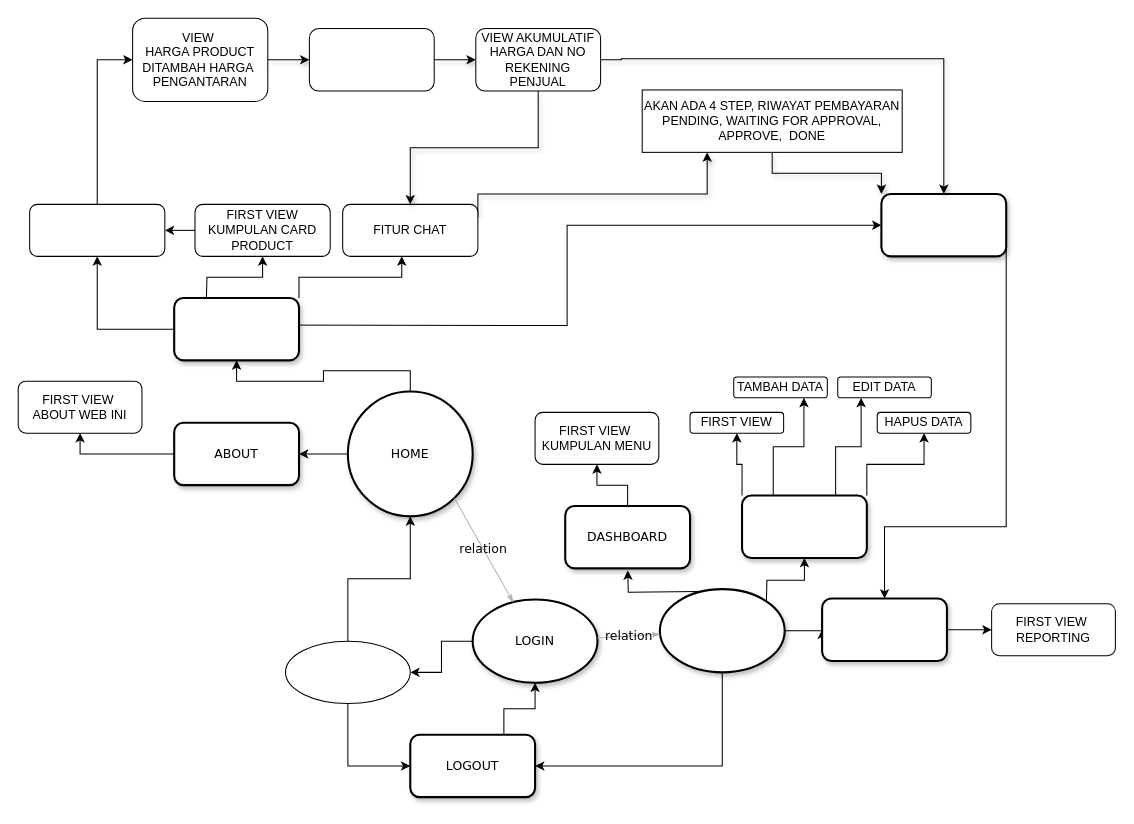
Image size: 1134x824. Some labels were removed from this diagram. Each missing label, with the centre of its shape:
ADMIN: the point at 722,631
BUY PRODUCT: the point at 97,229
DISAAT USER PENCET BUY: the point at 371,59
HISTORY USER: the point at 944,226
PRODUCT: the point at 805,528
PRODUK: the point at 237,330
REPORT: the point at 885,631
USER: the point at 347,672
